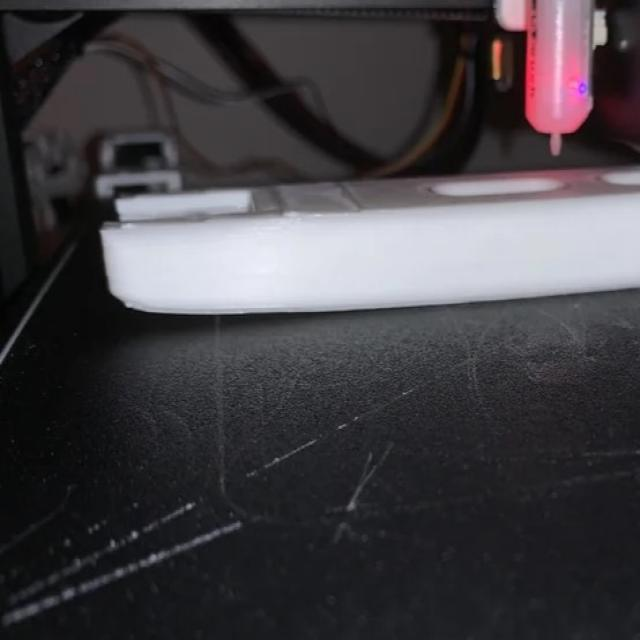warping: (104, 281, 286, 339)
